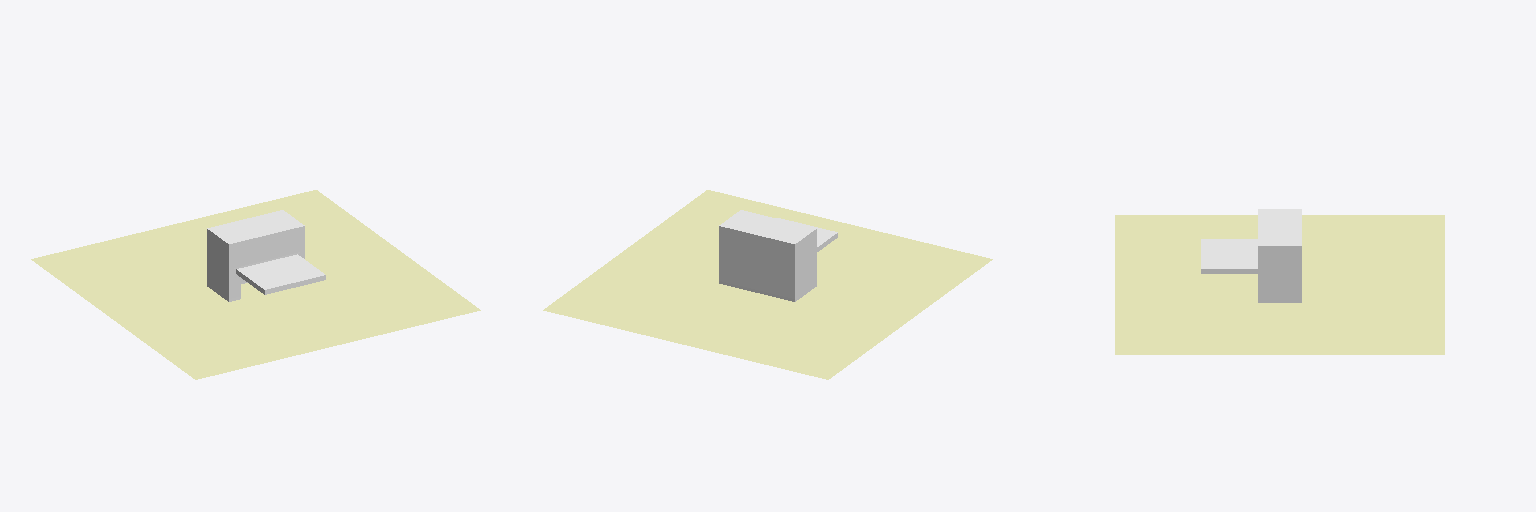
3 renders of one model, left to right at view 1: azimuth 30°, elevation 25°; view 2: azimuth 150°, elevation 25°; view 3: azimuth 270°, elevation 25°, orthographic.
Parts seen in each view (by area): view 1: out; view 2: out; view 3: out.
Boxes of the visible parts, x1,y1,x2,y2 form: out: [31, 190, 480, 379]; out: [543, 190, 992, 379]; out: [1115, 209, 1444, 354].
Size of the model in its own units: 30 by 5.79 by 30.